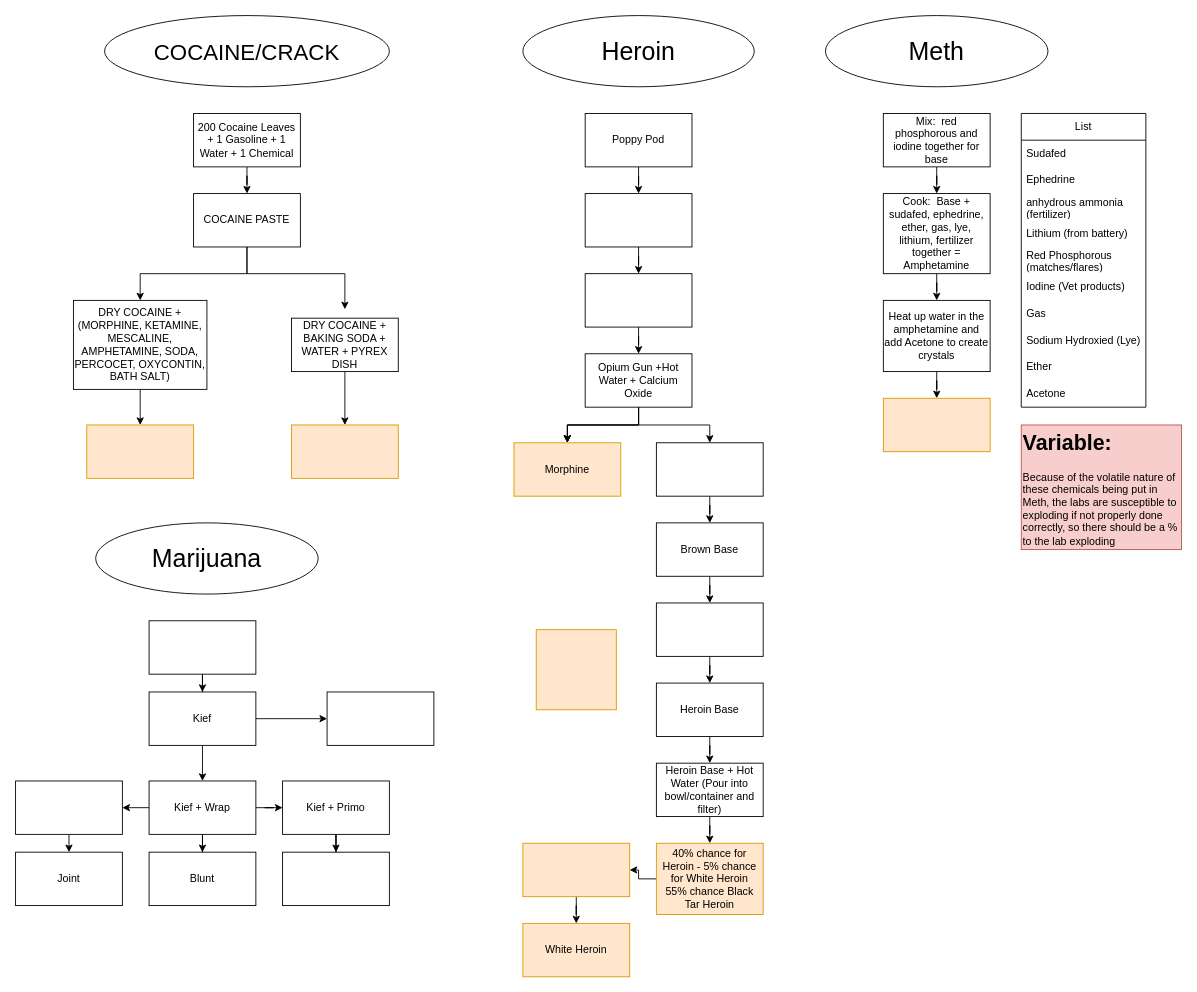
Image size: 1197x992. Some labels were removed from this diagram. The shapes that lost their labels are listed below. From the top down, each one's box as (x1, y1, x2, y2) in pixels, then its label:
(584, 193, 692, 247): Poppy Seed
(584, 273, 692, 327): Opium Gum
(882, 397, 990, 452): Methamphetamine "Crystal Meth" "Meth"
(86, 424, 194, 478): COCAINE
(291, 424, 398, 478): CRACK
(655, 442, 763, 496): Morphine + Acetic Anhydride
(148, 620, 256, 674): Nugget + Grinder
(655, 602, 763, 656): Brown Base + Sodium Carbonate
(535, 629, 616, 710): Usable: Morphine Black Tar Heroin Heroin White Heroin
(326, 691, 434, 745): Put Kief into bowl or bong.
(15, 780, 122, 834): Kief = Cone
(282, 851, 389, 906): Primo
(522, 842, 630, 897): Heroin + Acetone + Hydrochloric Acid
